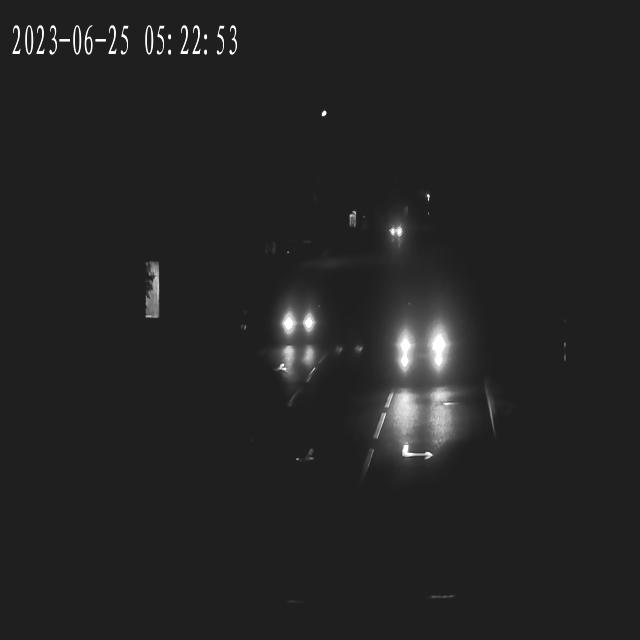Car: (396, 303, 456, 389), (279, 292, 321, 352)
